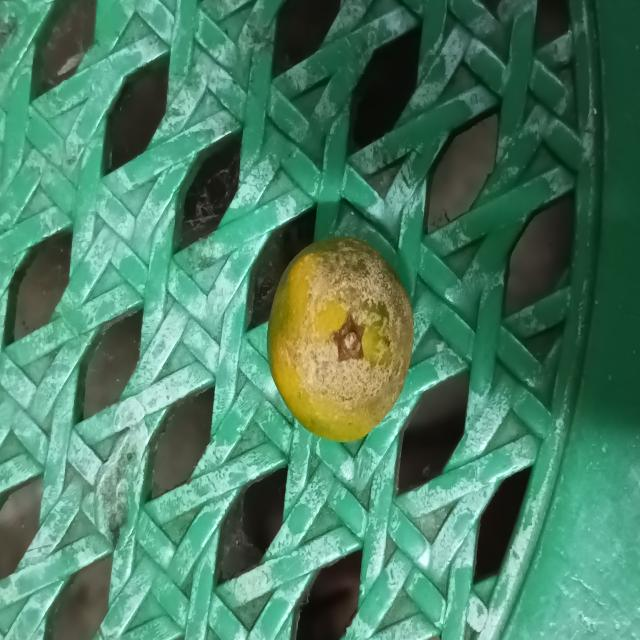thrips: (267, 237, 415, 436)
